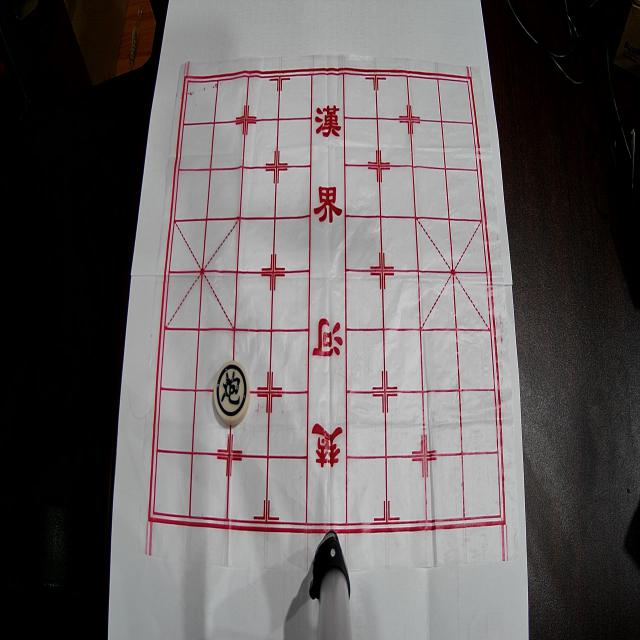black-cannon: (214, 360, 250, 426)
